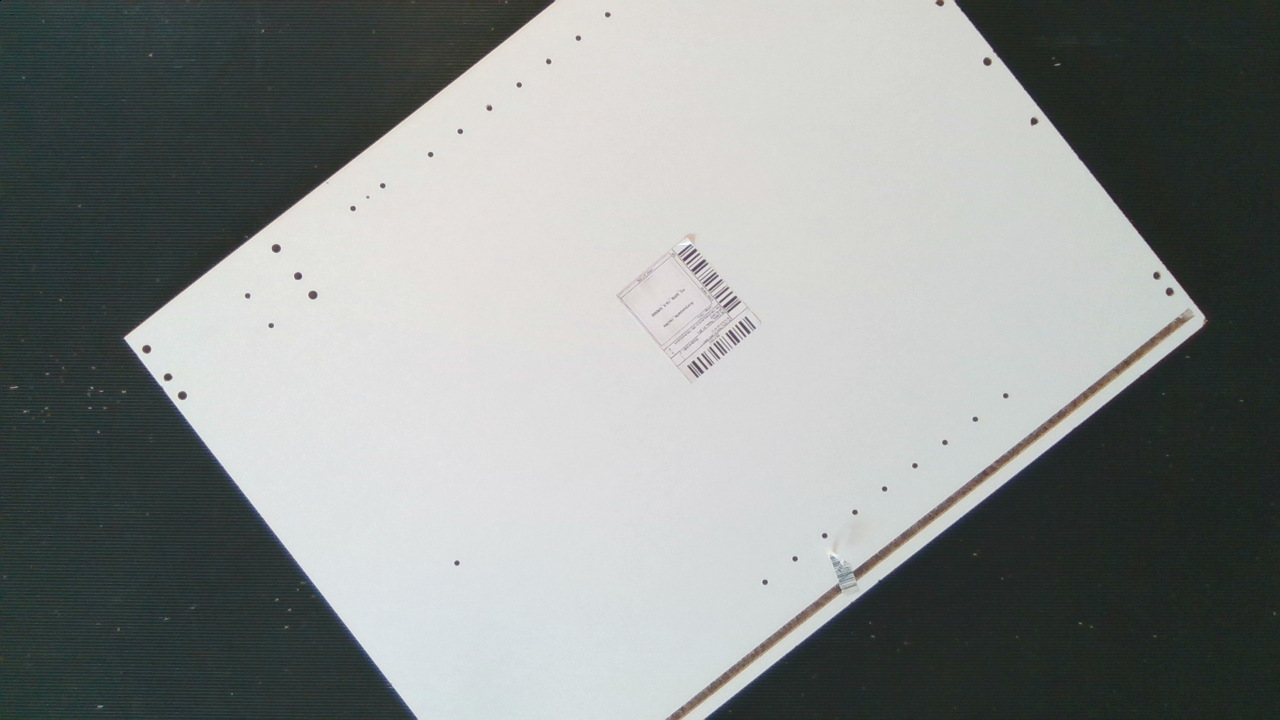barcode: (612, 237, 769, 384)
